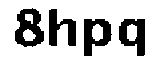8: (11, 5, 45, 49)
h: (48, 5, 79, 51)
p: (81, 15, 114, 59)
q: (117, 13, 149, 60)
